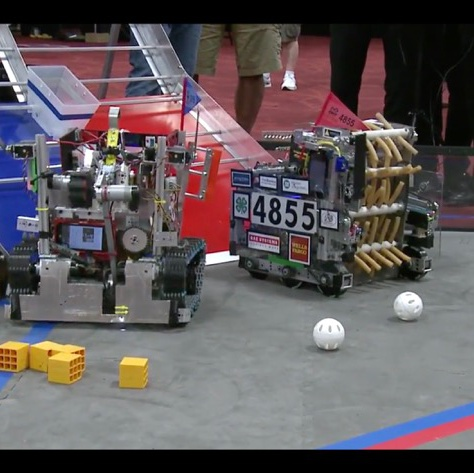robot: (0, 75, 207, 328), (226, 88, 440, 298)
